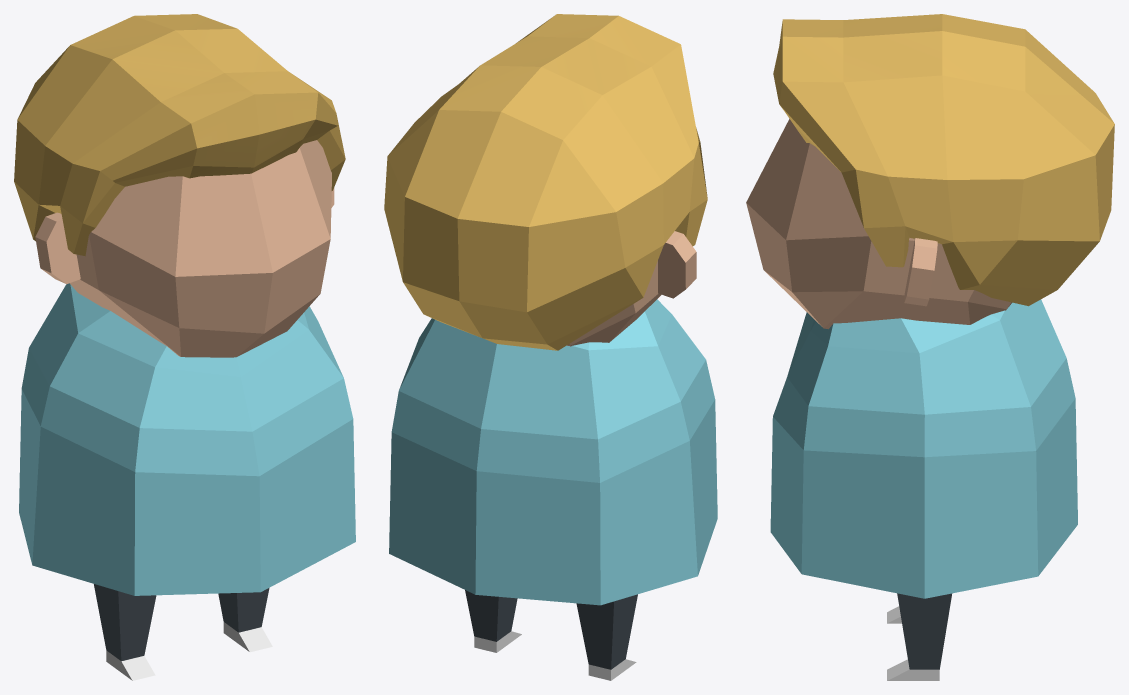
Rendered from feissari.glb.
3 renders of one model, left to right at view 1: azimuth 30°, elevation 25°; view 2: azimuth 150°, elevation 25°; view 3: azimuth 270°, elevation 25°, orthographic. The views are drawn at different scales.
Visible parts, largest first — view 1: Cube; view 2: Cube; view 3: Cube.
Boxes of the visible parts, x1,y1,x2,y2 form: Cube: (14, 14, 355, 680); Cube: (384, 14, 717, 680); Cube: (746, 14, 1114, 680).
Bounding box in the file's own units: 1.08 × 2.1 × 1.14.
